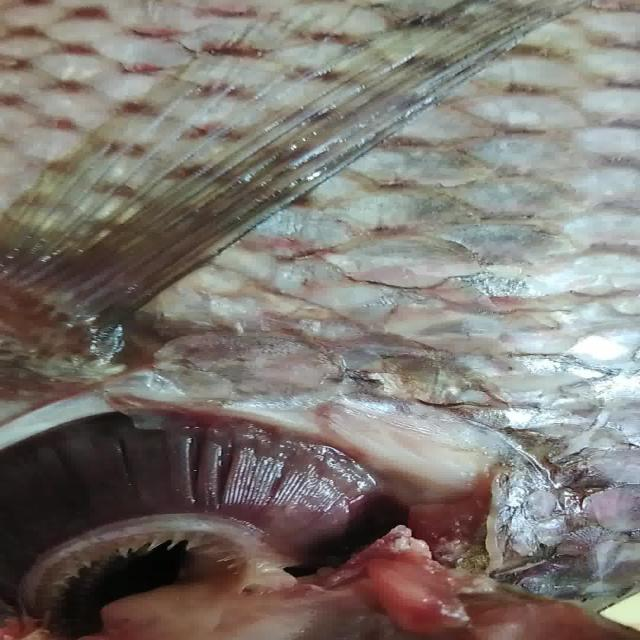Non-Fresh: (39, 391, 370, 632)
